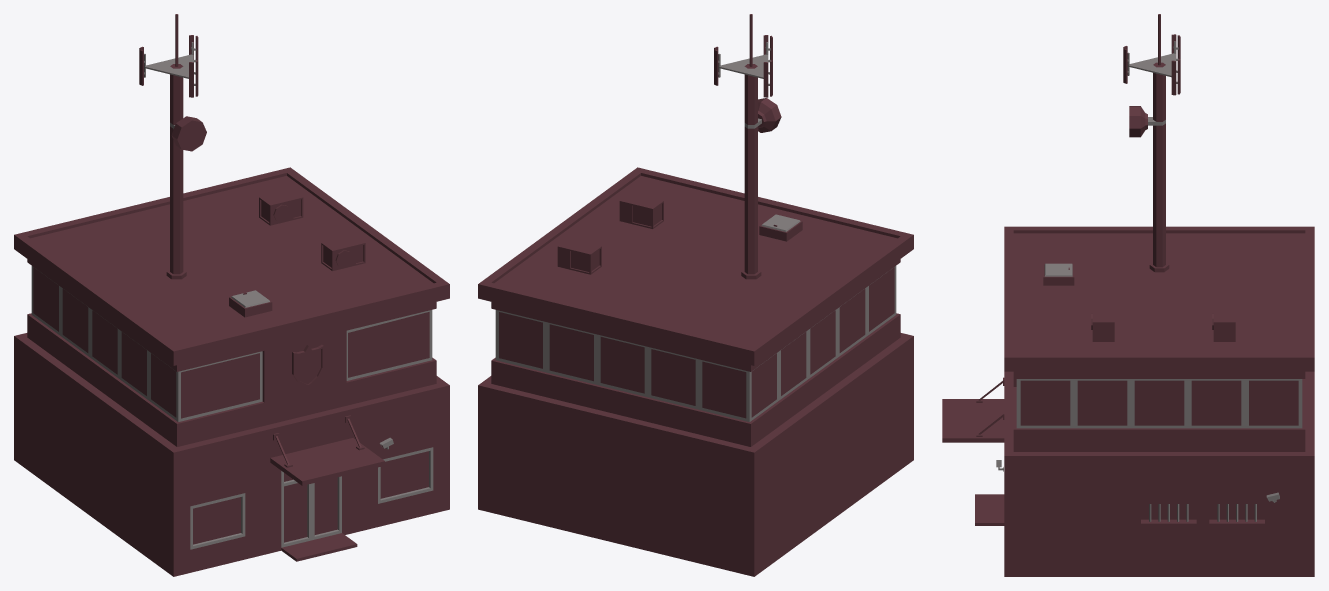
Rendered from building-policestation.fbx.
The picture shows the model from 3 angles, left to right: view 1: azimuth 30°, elevation 25°; view 2: azimuth 150°, elevation 25°; view 3: azimuth 270°, elevation 25°; orthographic projection. The views are drawn at different scales.
Parts seen in each view (by area): view 1: building-policestation; view 2: building-policestation; view 3: building-policestation.
Boxes of the visible parts, x1=… form: building-policestation: x1=14, y1=14, x2=449, y2=576; building-policestation: x1=478, y1=14, x2=913, y2=576; building-policestation: x1=942, y1=14, x2=1314, y2=576.
Size of the model in its own units: 10.25 by 16.74 by 12.
